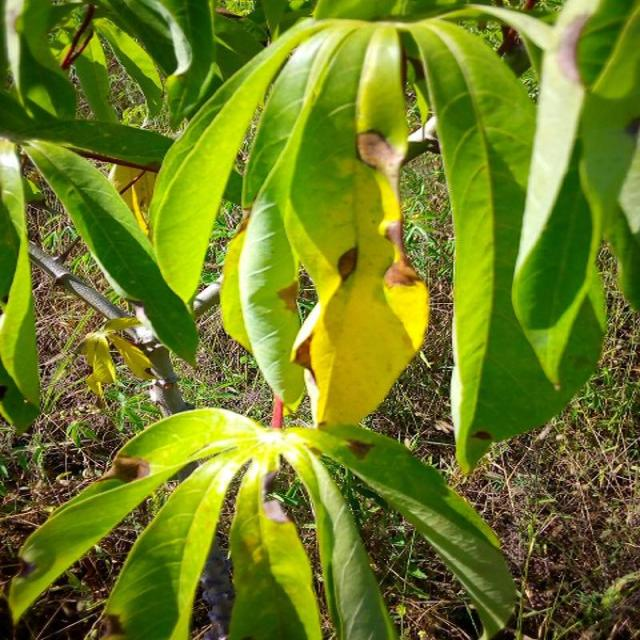cassava leaf: (3, 2, 636, 637), (408, 17, 607, 474)
